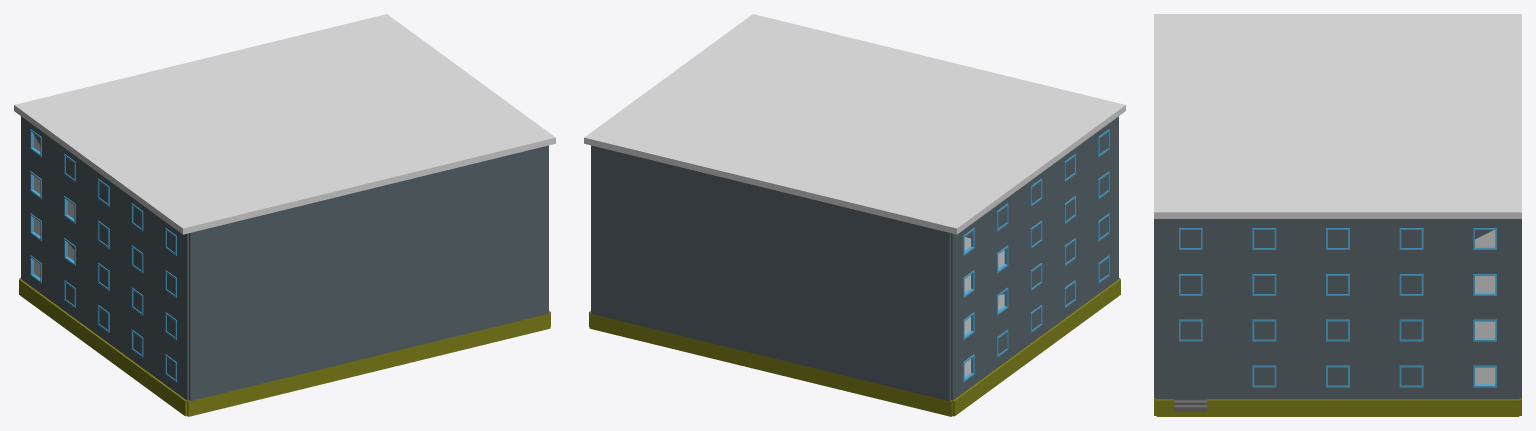
3 views of the same model, side by side, from view 1: azimuth 30°, elevation 25°; view 2: azimuth 150°, elevation 25°; view 3: azimuth 270°, elevation 25° (orthographic). The views are drawn at different scales.
Parts seen in each view (by area): view 1: BR20_F04_03; view 2: BR20_F04_03; view 3: BR20_F04_03.
Boxes of the visible parts, x1,y1,x2,y2 form: BR20_F04_03: [14, 14, 555, 416]; BR20_F04_03: [584, 14, 1125, 416]; BR20_F04_03: [1154, 14, 1521, 416].
Bounding box in the file's own units: 2550 × 1240 × 2000.
